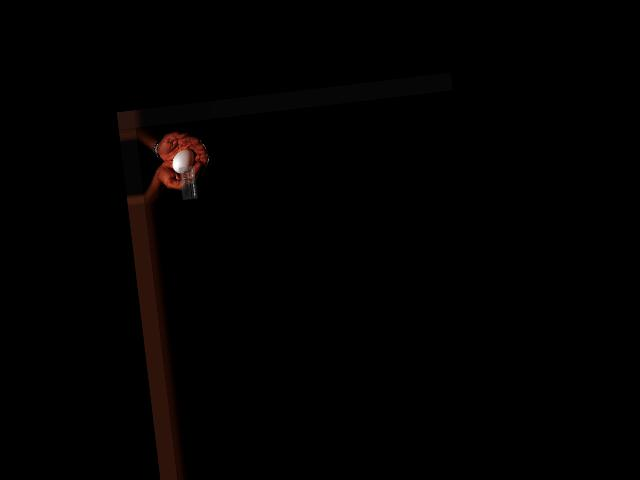egg: (171, 147, 196, 173)
